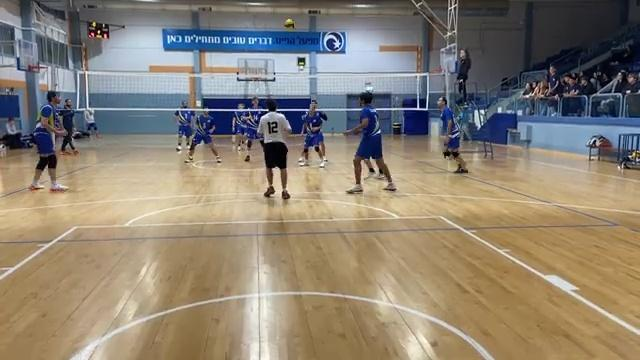ball: (282, 15, 297, 31)
